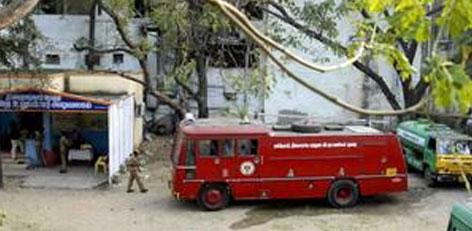Fire-engine: (174, 113, 410, 208)
